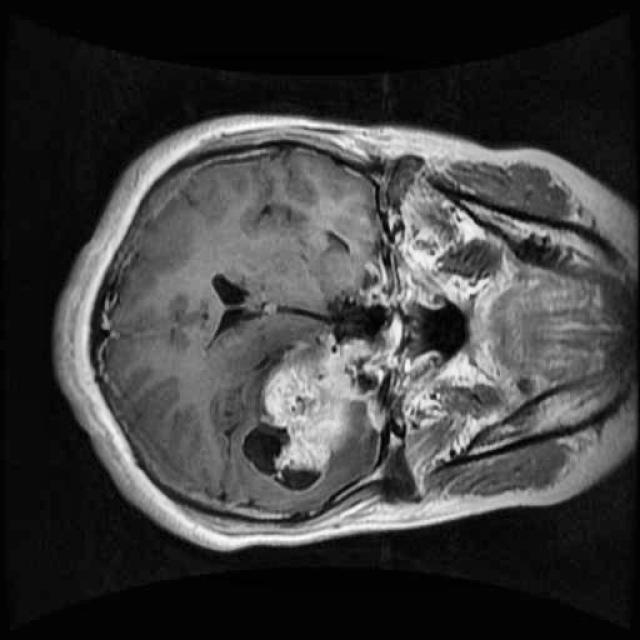Non-Tumor: (258, 325, 391, 496)
